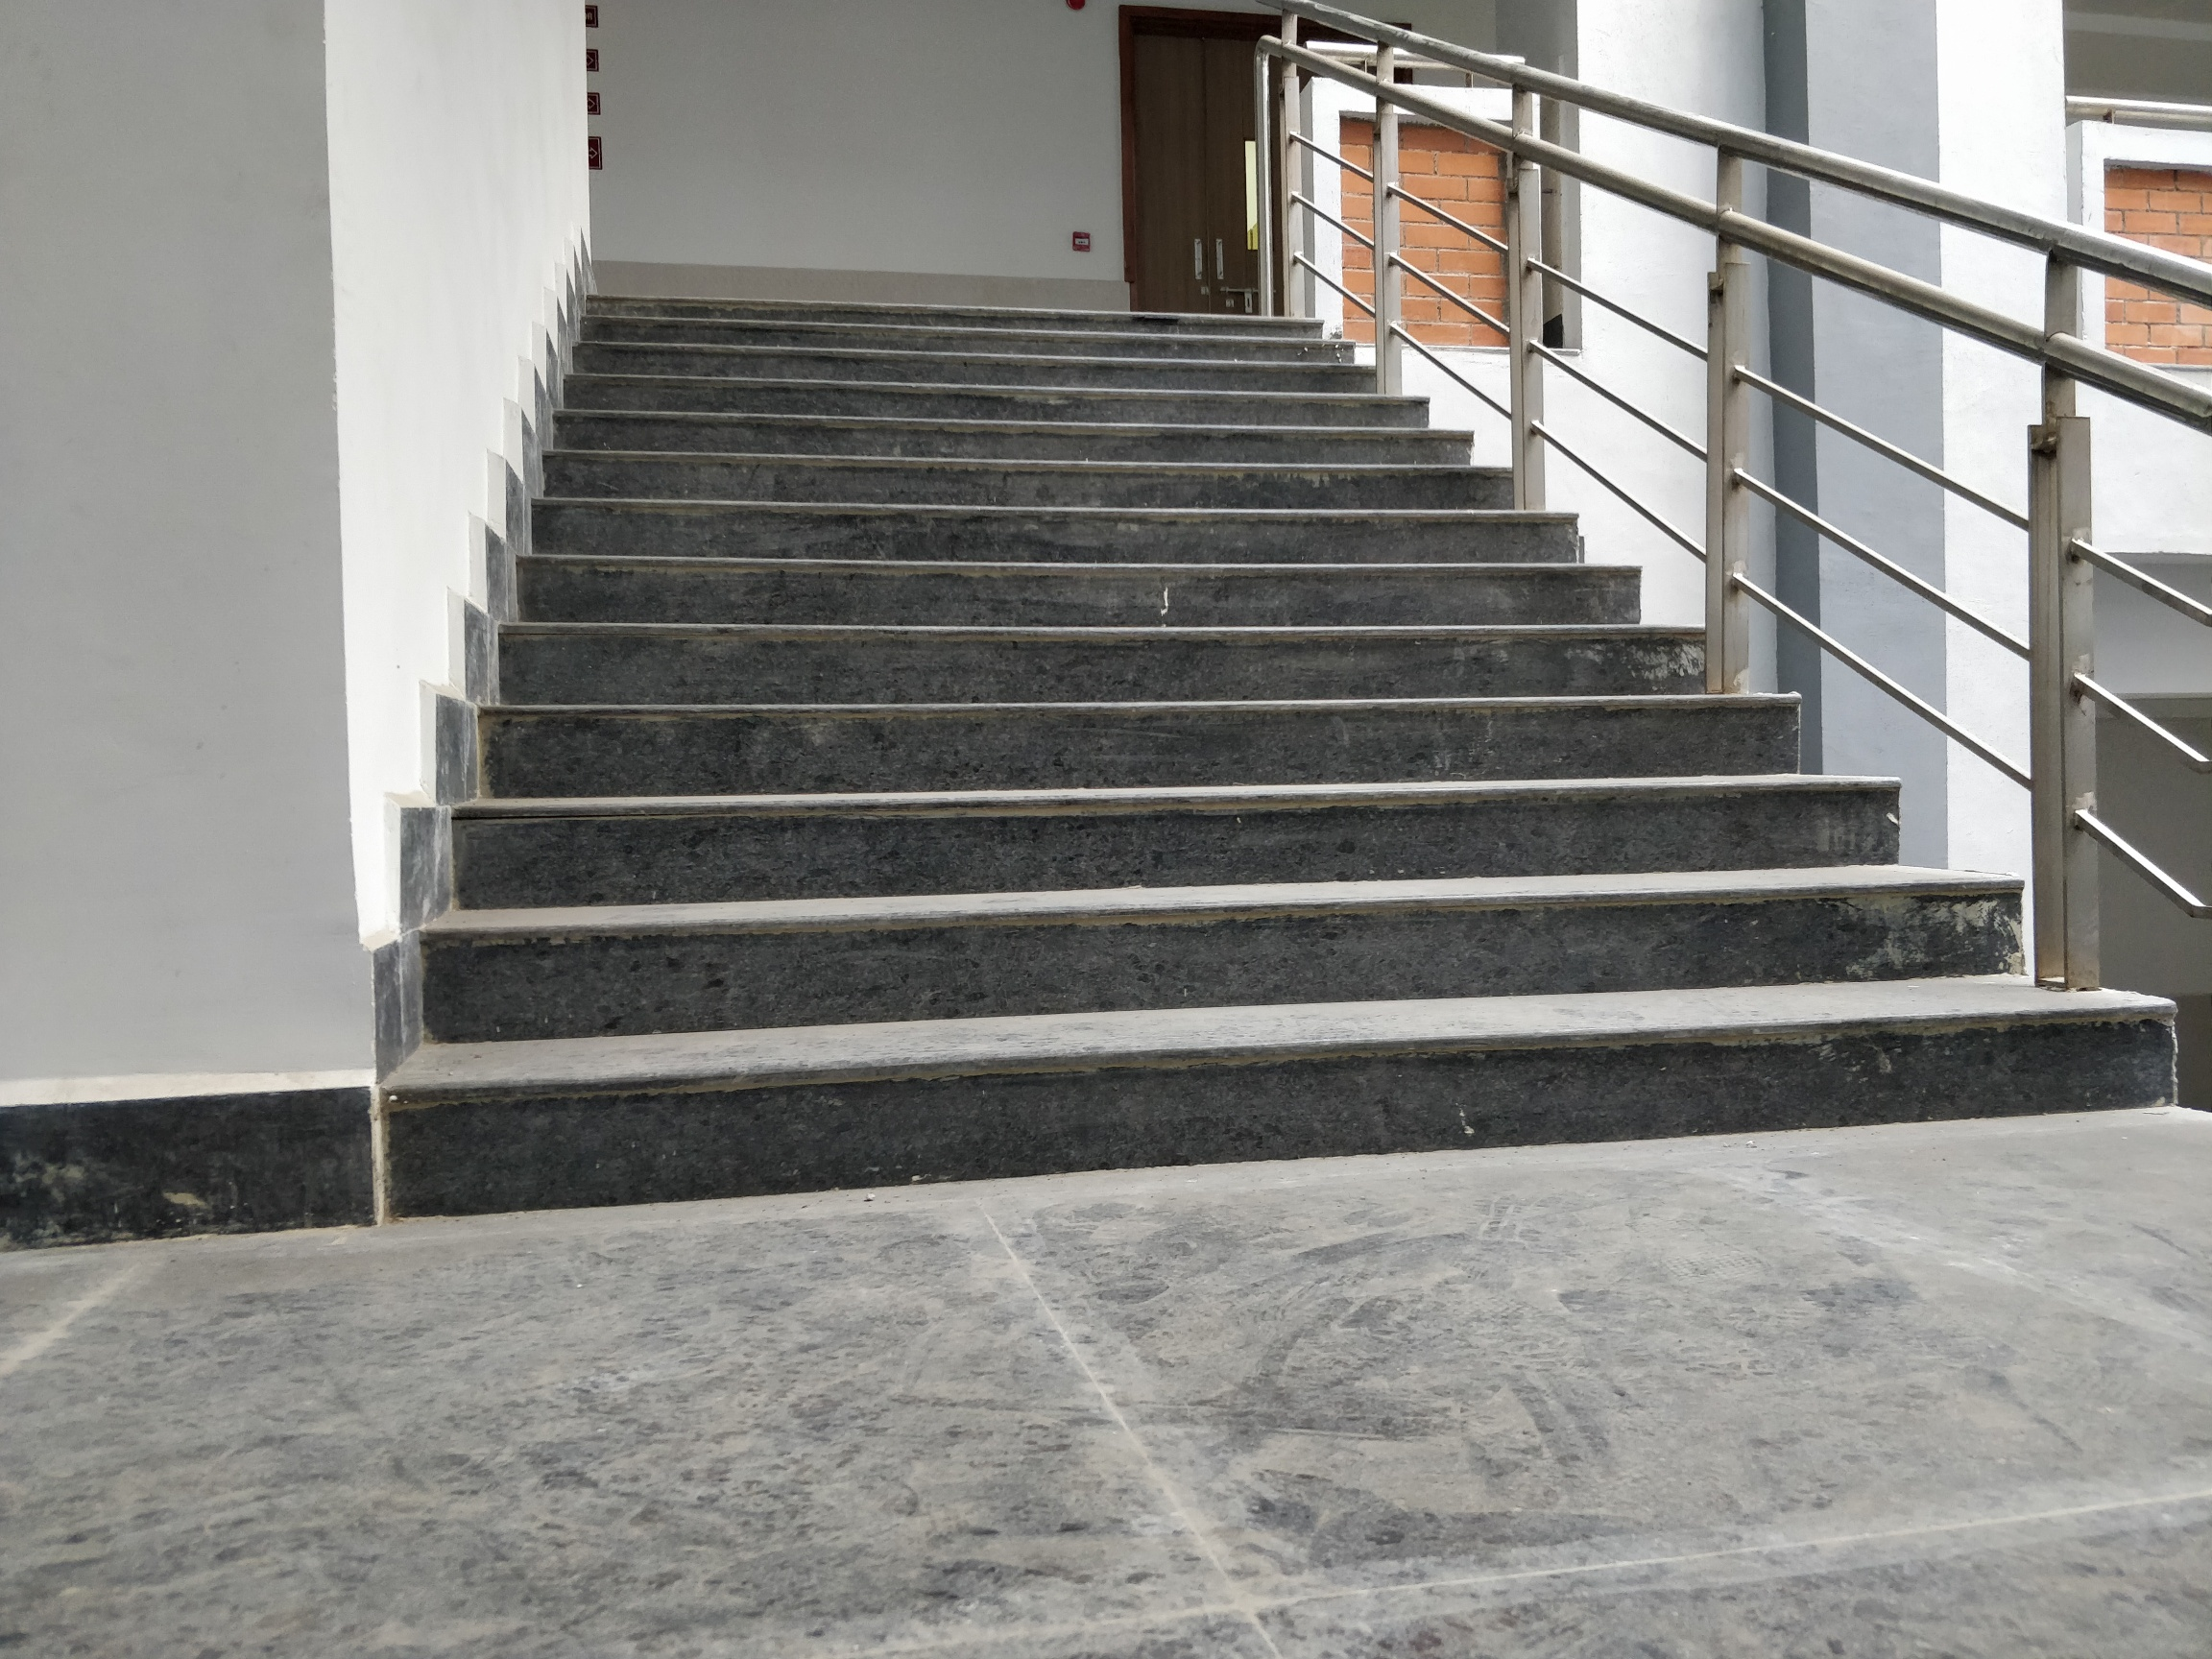stairs_up: (439, 317, 2001, 1161)
